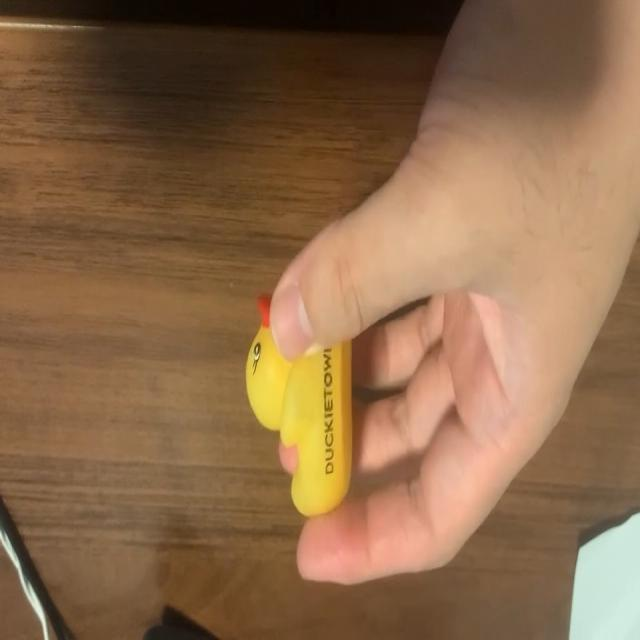rubber-duck: (245, 295, 350, 514)
